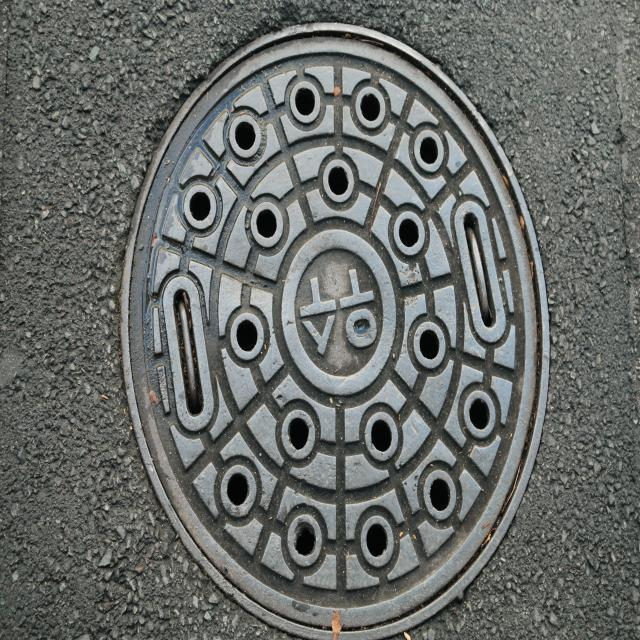manhole: (122, 24, 549, 640)
